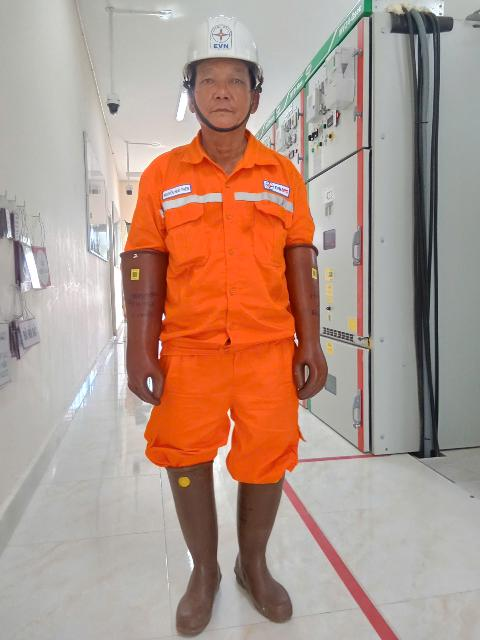gloves: (262, 229, 337, 407), (107, 255, 194, 405)
helmet: (169, 1, 282, 98)
shoes: (132, 432, 226, 634), (238, 453, 308, 631)
